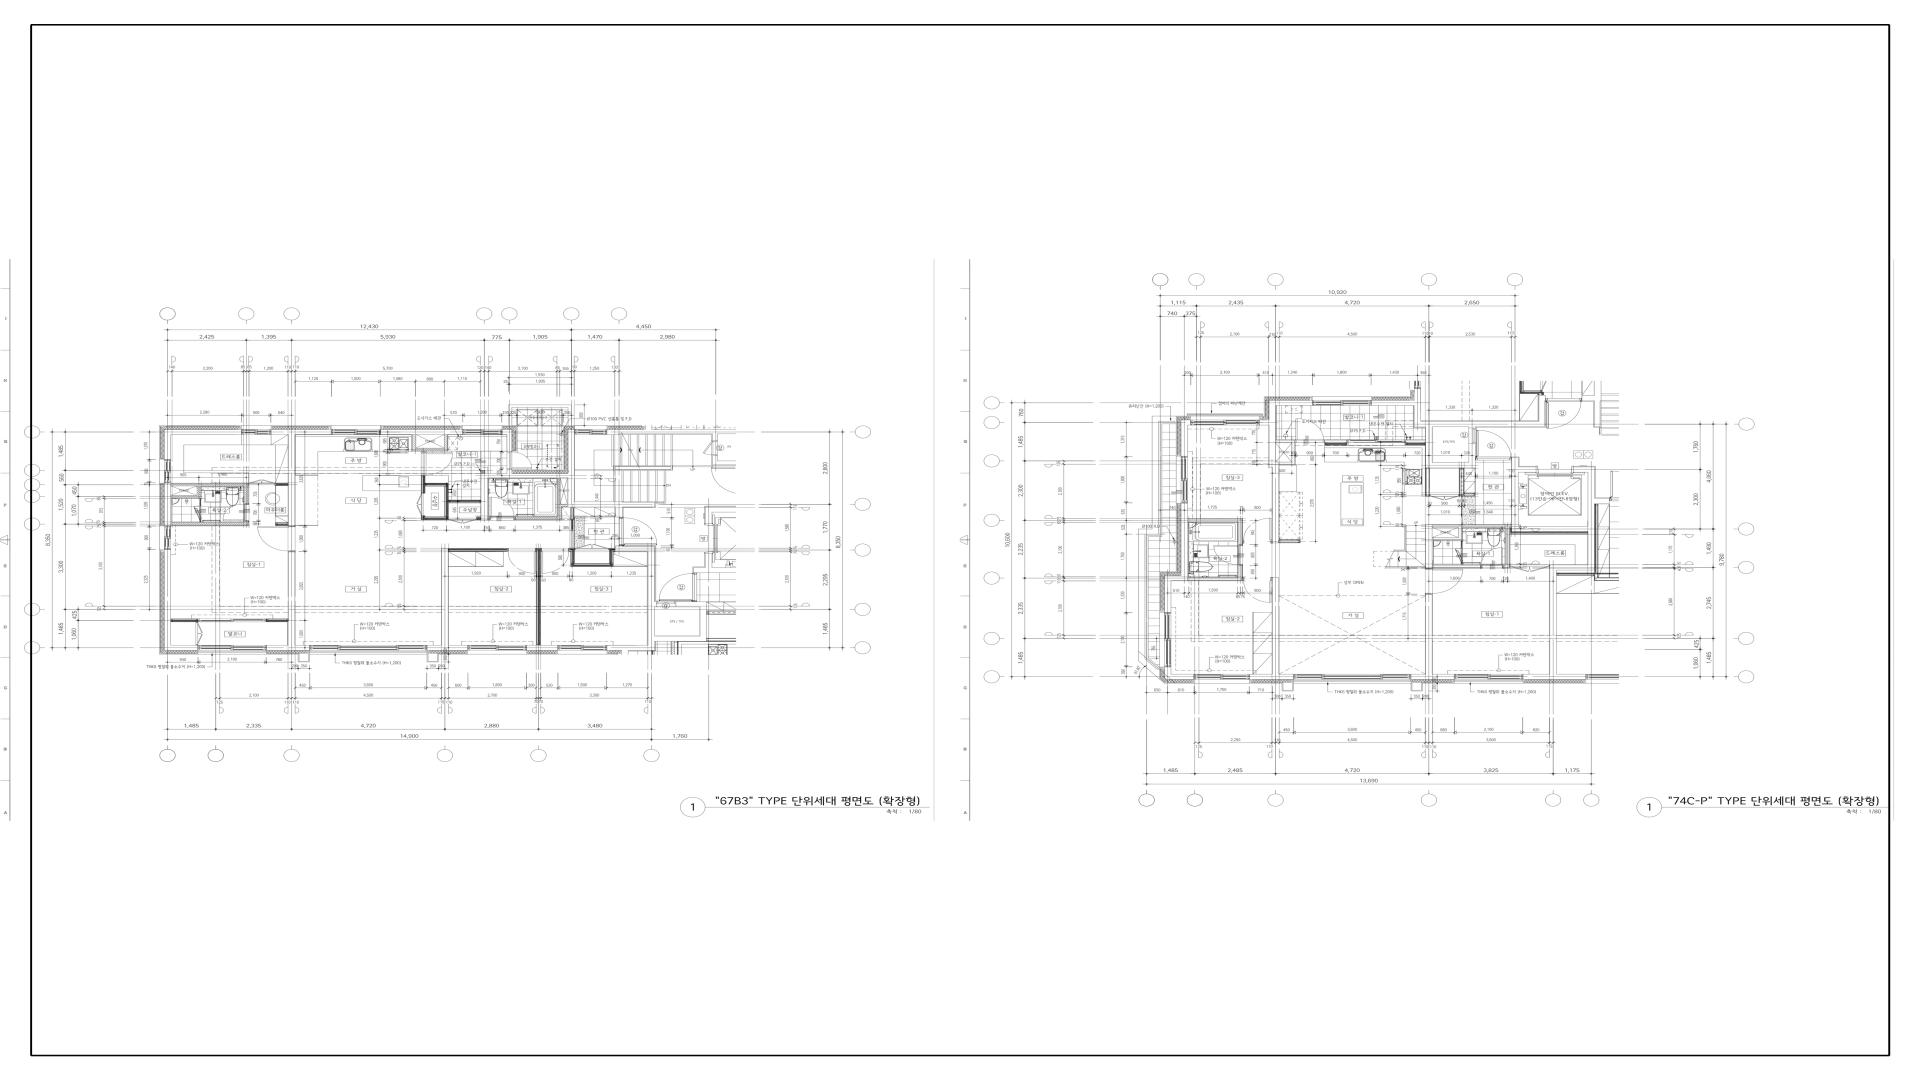door: (619, 517, 657, 546), (659, 573, 697, 602), (1476, 430, 1511, 460), (1425, 568, 1463, 594), (258, 526, 295, 552), (421, 452, 453, 476), (507, 548, 536, 574), (541, 548, 570, 574), (1243, 518, 1272, 543), (1243, 578, 1272, 603), (1295, 419, 1325, 443), (489, 497, 515, 520), (1214, 546, 1243, 565), (223, 503, 249, 522), (1481, 547, 1504, 568), (507, 451, 532, 470), (1459, 468, 1465, 525), (1510, 565, 1549, 572), (1429, 493, 1459, 501), (195, 622, 203, 645), (448, 518, 476, 524), (248, 480, 275, 486), (416, 493, 423, 516), (570, 519, 575, 549), (1469, 428, 1476, 444), (656, 602, 676, 607), (194, 506, 201, 520)
wall: (615, 546, 656, 651), (164, 550, 198, 651), (607, 429, 736, 440), (1138, 534, 1147, 657), (676, 602, 707, 636), (1549, 565, 1557, 674), (694, 554, 736, 573), (1152, 416, 1159, 529), (441, 549, 449, 645), (1588, 472, 1596, 565), (287, 552, 295, 645), (1421, 421, 1538, 427), (1272, 578, 1279, 674), (288, 435, 295, 526), (567, 429, 575, 507), (1138, 651, 1160, 679), (1272, 462, 1279, 543), (1426, 594, 1433, 674), (705, 507, 736, 524), (1181, 503, 1188, 575), (381, 429, 463, 435), (1269, 405, 1276, 467), (171, 429, 241, 435), (1512, 458, 1518, 527), (575, 502, 655, 507), (1512, 527, 1588, 532), (271, 429, 331, 435), (481, 474, 568, 478), (655, 636, 707, 642), (1426, 524, 1433, 568), (1164, 575, 1172, 613), (164, 483, 171, 526), (536, 548, 539, 645), (1249, 674, 1294, 680), (1269, 400, 1313, 406), (1371, 400, 1414, 406), (1411, 674, 1454, 680), (267, 645, 310, 651), (481, 478, 487, 520), (1538, 396, 1546, 427), (607, 645, 648, 651), (1432, 525, 1512, 528), (171, 522, 248, 525), (1181, 425, 1188, 457), (502, 429, 512, 451), (1425, 463, 1469, 468), (1426, 427, 1432, 463), (575, 544, 610, 550), (164, 429, 171, 459), (1593, 402, 1601, 428), (713, 456, 736, 465), (427, 645, 468, 650), (1523, 674, 1557, 680), (1504, 528, 1509, 568), (1557, 565, 1595, 570), (1414, 400, 1421, 427), (527, 645, 558, 651), (1469, 443, 1476, 468), (1188, 519, 1242, 522), (171, 484, 248, 486), (1433, 565, 1481, 568), (1171, 674, 1194, 680), (1325, 440, 1347, 446), (1406, 440, 1426, 446), (448, 550, 507, 552), (1582, 396, 1601, 402), (1425, 468, 1429, 496), (1188, 578, 1243, 580), (1574, 467, 1596, 472), (1138, 529, 1159, 534), (1172, 575, 1188, 581), (415, 448, 447, 451), (1164, 667, 1171, 680), (515, 517, 558, 519), (1519, 467, 1536, 472), (1159, 416, 1176, 421), (171, 495, 197, 498), (1432, 537, 1458, 540), (1239, 522, 1242, 545), (444, 486, 446, 518), (616, 507, 622, 517), (1276, 440, 1295, 443), (1292, 443, 1295, 462), (1404, 525, 1406, 551), (558, 478, 560, 504), (245, 486, 248, 503), (1181, 420, 1191, 425), (1259, 420, 1269, 425), (612, 550, 615, 566), (412, 435, 415, 451), (1458, 528, 1462, 540), (1279, 462, 1295, 465), (444, 435, 447, 449), (1386, 567, 1426, 568), (558, 507, 561, 520), (1239, 566, 1242, 578), (574, 564, 610, 565), (421, 475, 423, 493), (197, 486, 200, 498), (570, 550, 572, 567), (448, 502, 481, 503), (1465, 493, 1475, 496), (558, 504, 567, 507), (171, 619, 198, 620), (571, 507, 573, 519), (266, 619, 288, 620), (425, 485, 446, 486), (1279, 542, 1299, 543), (507, 470, 512, 474), (425, 517, 444, 518), (1461, 541, 1463, 548), (275, 483, 288, 484), (275, 523, 288, 524), (1394, 550, 1404, 551), (200, 498, 201, 506), (1469, 427, 1476, 428), (421, 516, 423, 519), (1238, 545, 1242, 546), (1238, 565, 1242, 566), (200, 520, 201, 522)
window: (309, 645, 427, 651), (1294, 674, 1411, 680), (1454, 674, 1523, 680), (198, 645, 267, 651), (1164, 612, 1171, 667), (1347, 440, 1406, 446), (468, 645, 527, 651), (1313, 400, 1371, 406), (1191, 420, 1259, 425), (1194, 674, 1250, 680), (1181, 456, 1188, 503), (331, 429, 381, 435), (558, 645, 607, 651), (462, 429, 502, 435), (198, 619, 266, 622), (575, 429, 607, 435), (241, 429, 271, 435), (164, 459, 171, 483), (164, 526, 171, 550)
